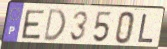0: (114, 10, 135, 45)
3: (69, 11, 89, 42)
5: (92, 11, 113, 44)
D: (42, 8, 67, 43)
E: (21, 9, 47, 41)
L: (136, 13, 155, 44)
